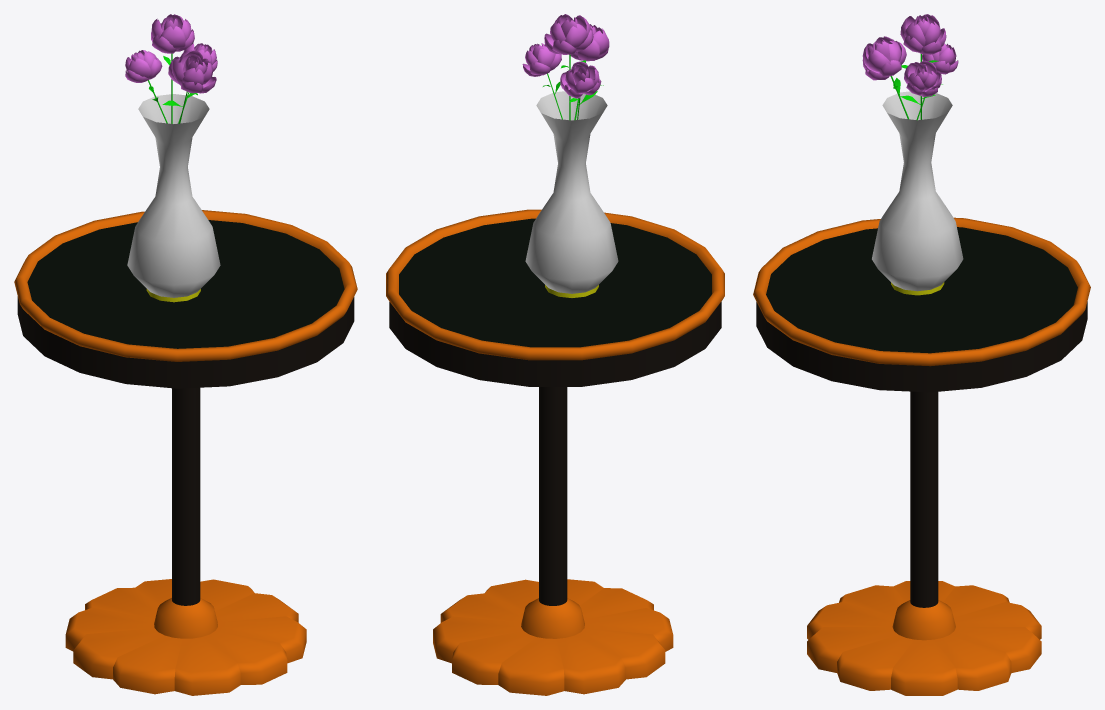
The model's file is SM_PedestalTable_001.fbx.
3 renders of one model, left to right at view 1: azimuth 30°, elevation 25°; view 2: azimuth 150°, elevation 25°; view 3: azimuth 270°, elevation 25°, orthographic.
Visible parts, largest first — view 1: SM_PedestalTable_001; view 2: SM_PedestalTable_001; view 3: SM_PedestalTable_001.
Boxes of the visible parts, bbox=[...] form: SM_PedestalTable_001: bbox=[14, 14, 357, 695]; SM_PedestalTable_001: bbox=[386, 14, 724, 695]; SM_PedestalTable_001: bbox=[753, 14, 1090, 695].
Bounding box in the file's own units: 71.8 × 146 × 71.8.
